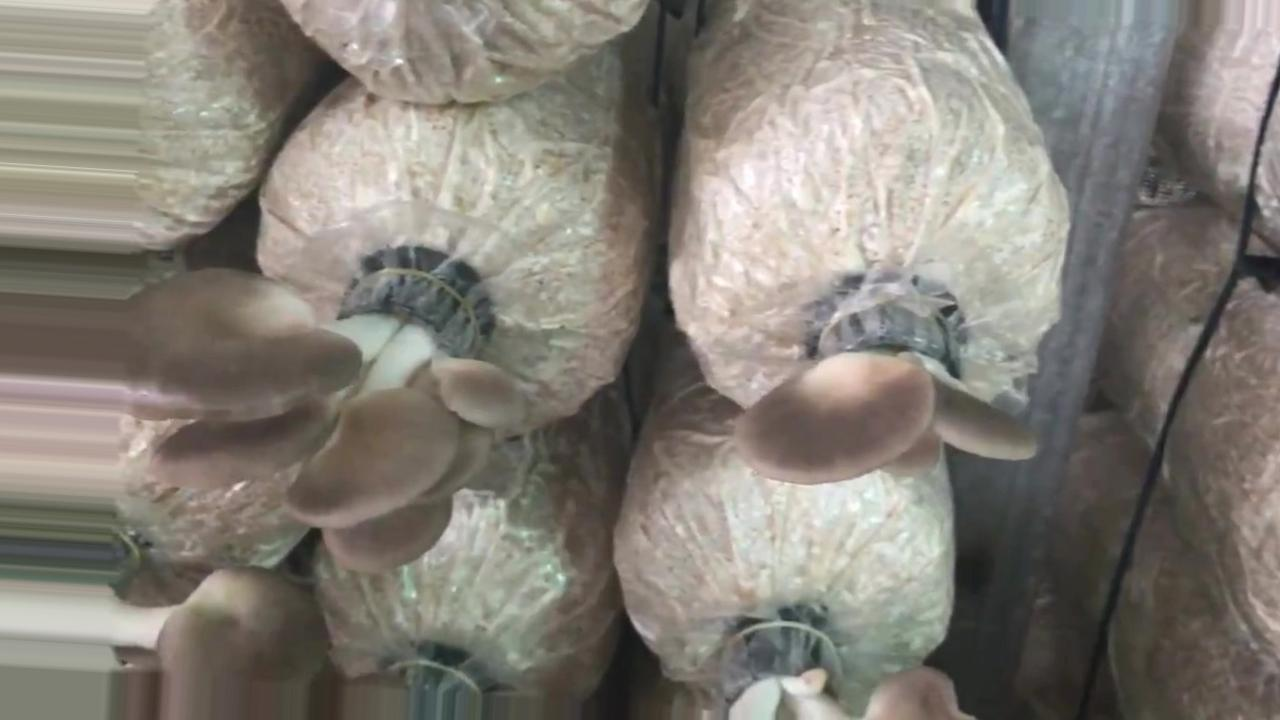nam: (132, 273, 536, 570), (739, 303, 1045, 492)
